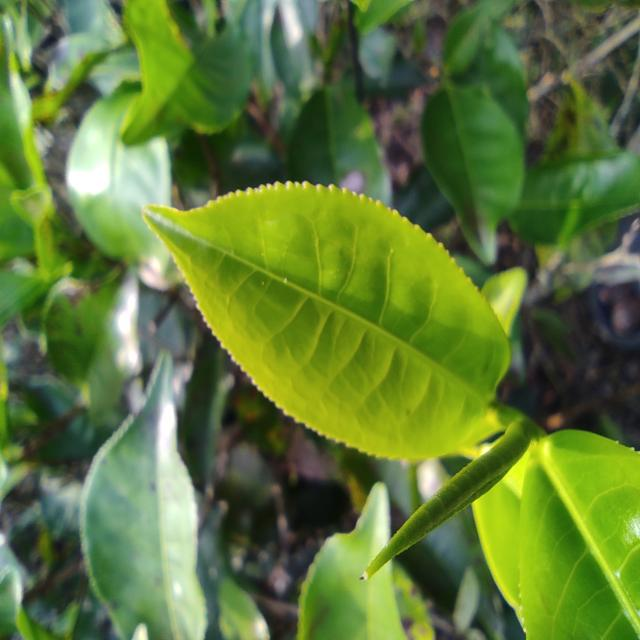Category B 2-4 days: (122, 157, 519, 471)
